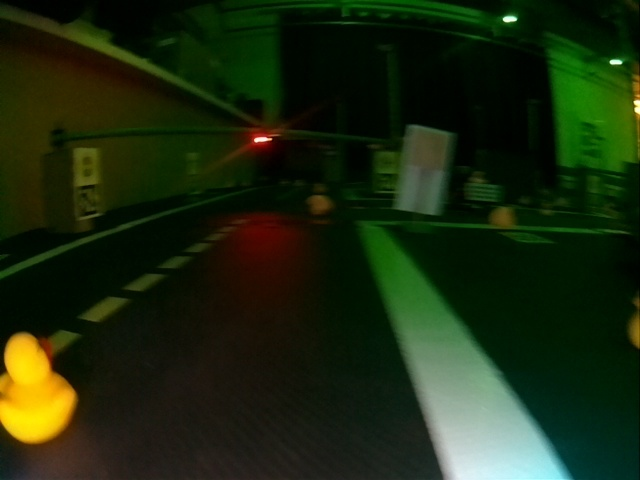Duckie: (0, 334, 74, 445), (306, 194, 331, 216), (490, 206, 514, 228)
QR code: (75, 186, 98, 218), (498, 233, 553, 243)
Signal sign: (78, 149, 98, 183)
